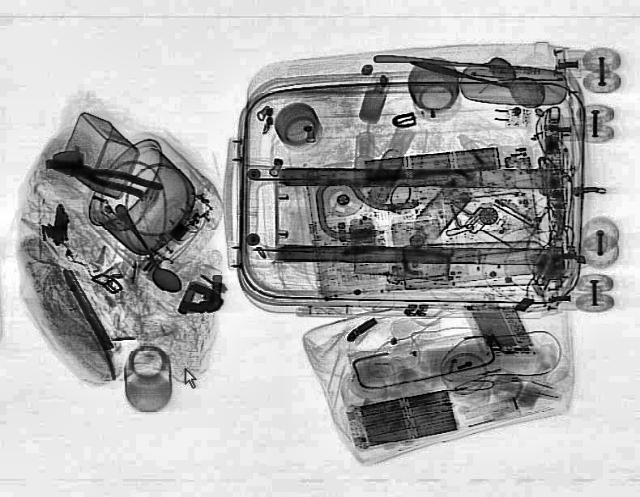Pliers: (37, 150, 163, 202)
